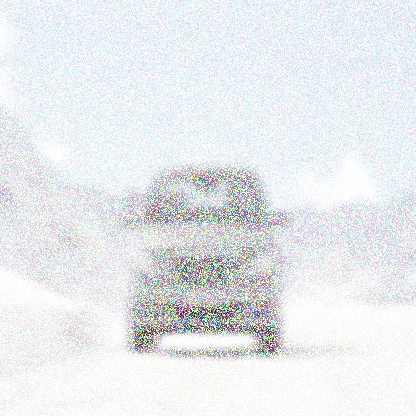Vehicle: (126, 160, 291, 371)
